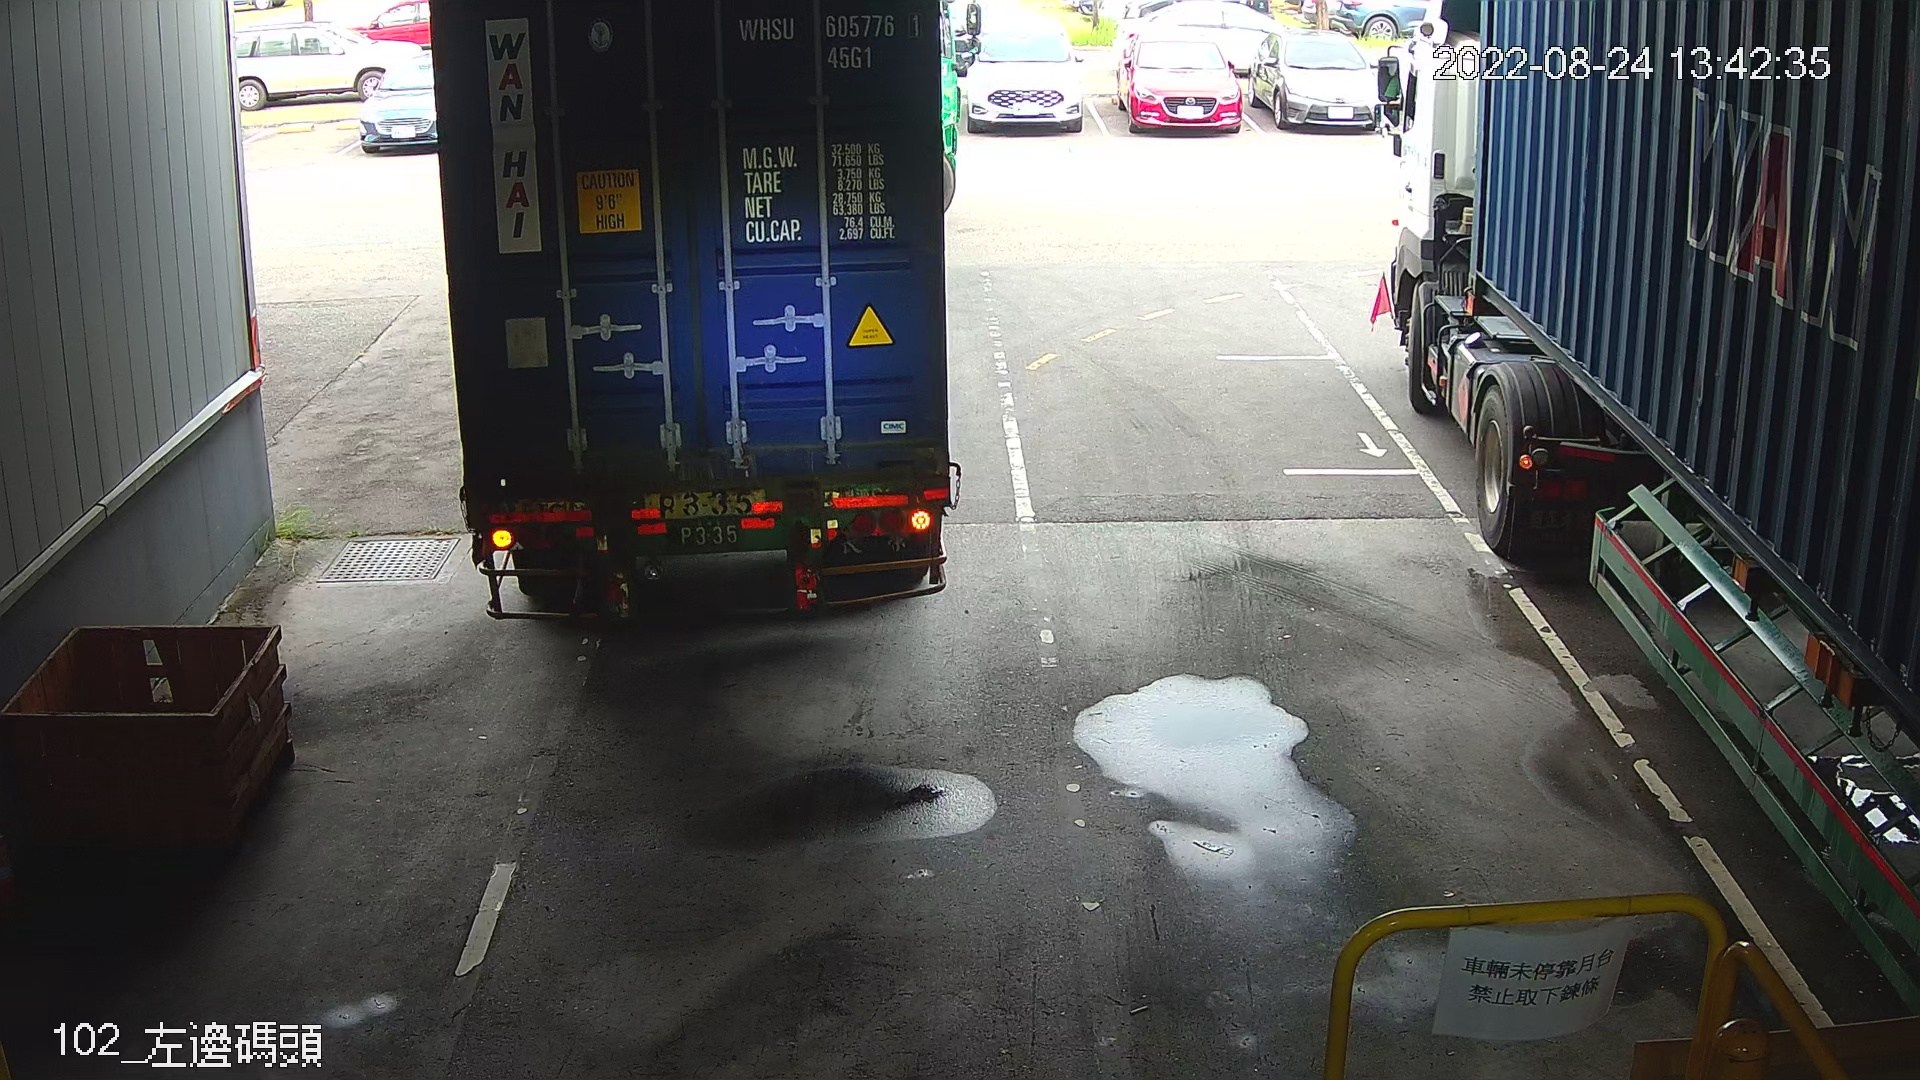container: (825, 82, 1110, 179)
